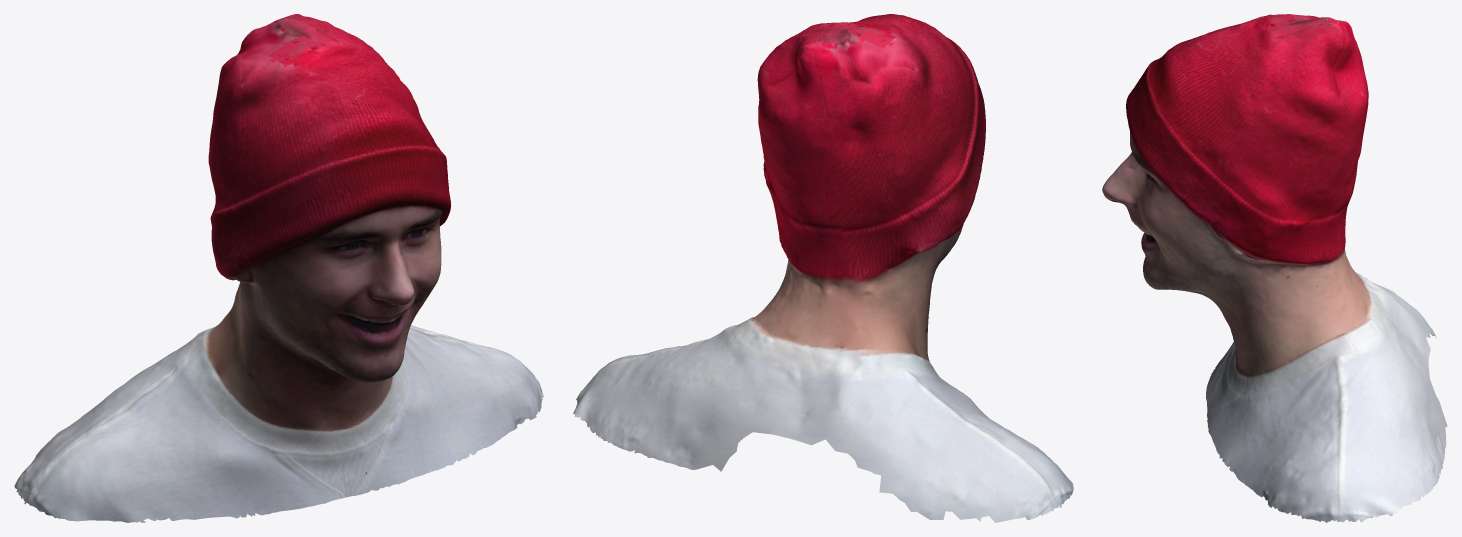
Rendered from myFace.glb.
The picture shows the model from 3 angles, left to right: view 1: azimuth 30°, elevation 25°; view 2: azimuth 150°, elevation 25°; view 3: azimuth 270°, elevation 25°; orthographic projection. The views are drawn at different scales.
Visible parts, largest first — view 1: model; view 2: model; view 3: model.
Part boxes in pixels (x1,y1,x2,y2): model: (14, 14, 543, 522); model: (573, 14, 1073, 522); model: (1102, 14, 1447, 522).
Bounding box in the file's own units: 3.29 × 2.66 × 2.13.
Materials: 1 (1 with a texture image).
